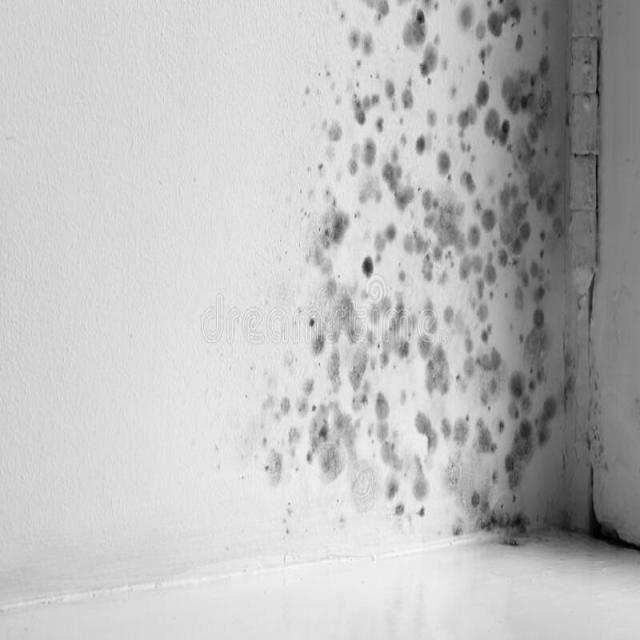stain marks: (212, 0, 576, 540)
